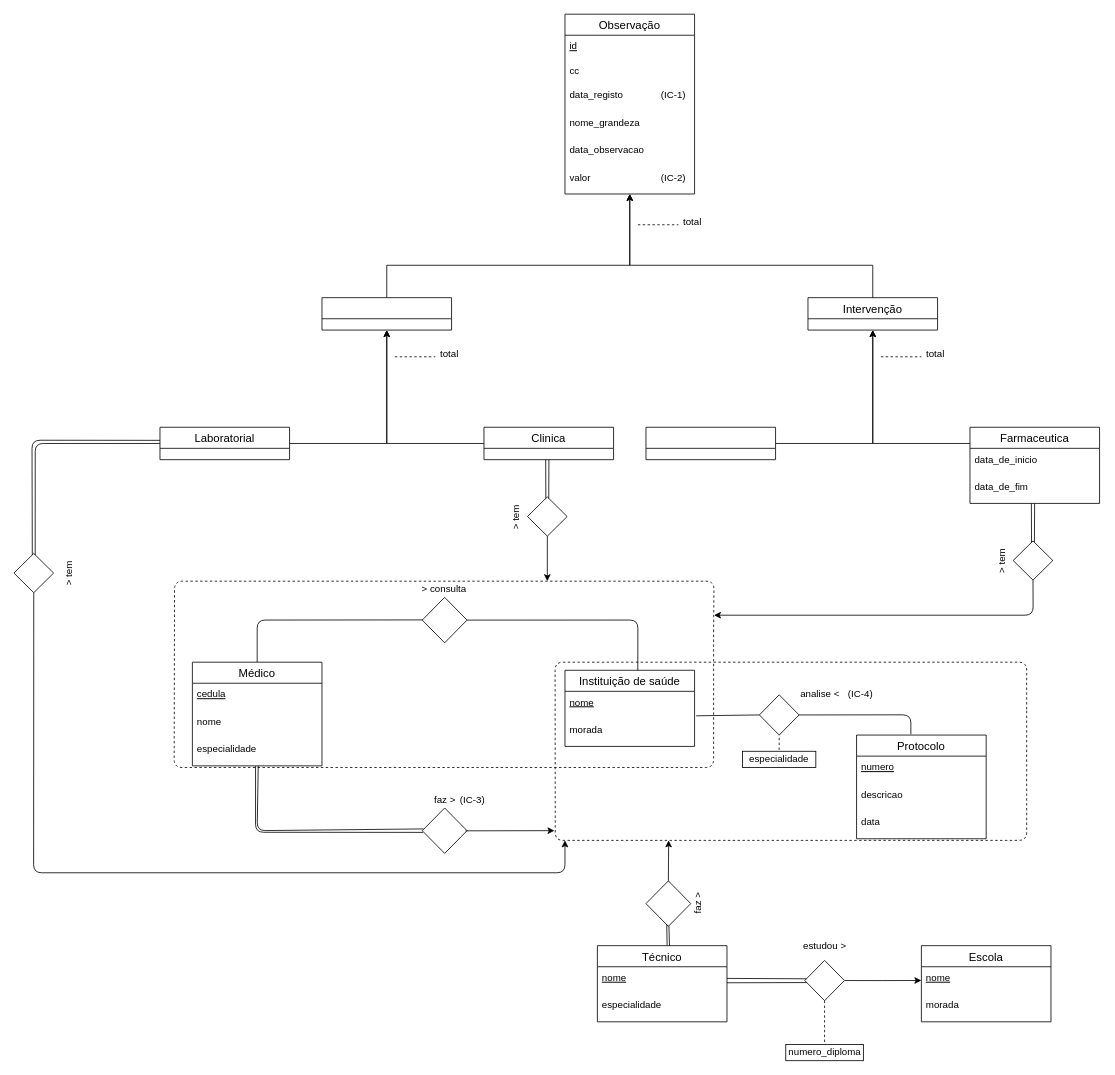
The diagram is 1115 pixels wide and 1075 high, and some of its shapes have lost their labels. The shapes that lost their labels are listed below. From the top down, each one's centre as x and y in pixels, then its label:
At [386,313]: "Medição".
At [710,443]: "Cirurgica".
